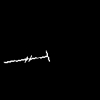treble_crochet: (4, 52, 49, 62)
